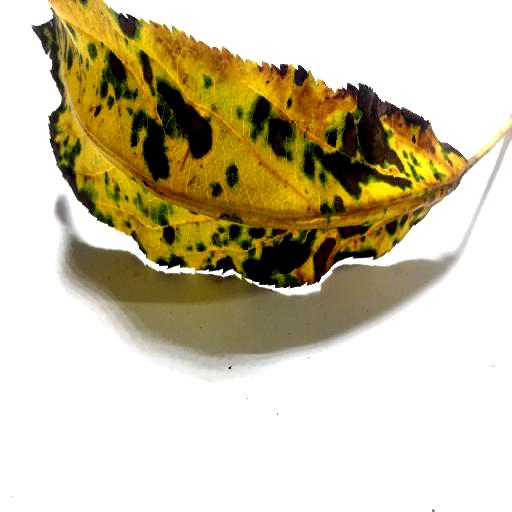Brown_Spot: (238, 89, 435, 198), (212, 212, 418, 278), (131, 76, 219, 192), (98, 11, 154, 97), (154, 228, 180, 251)
